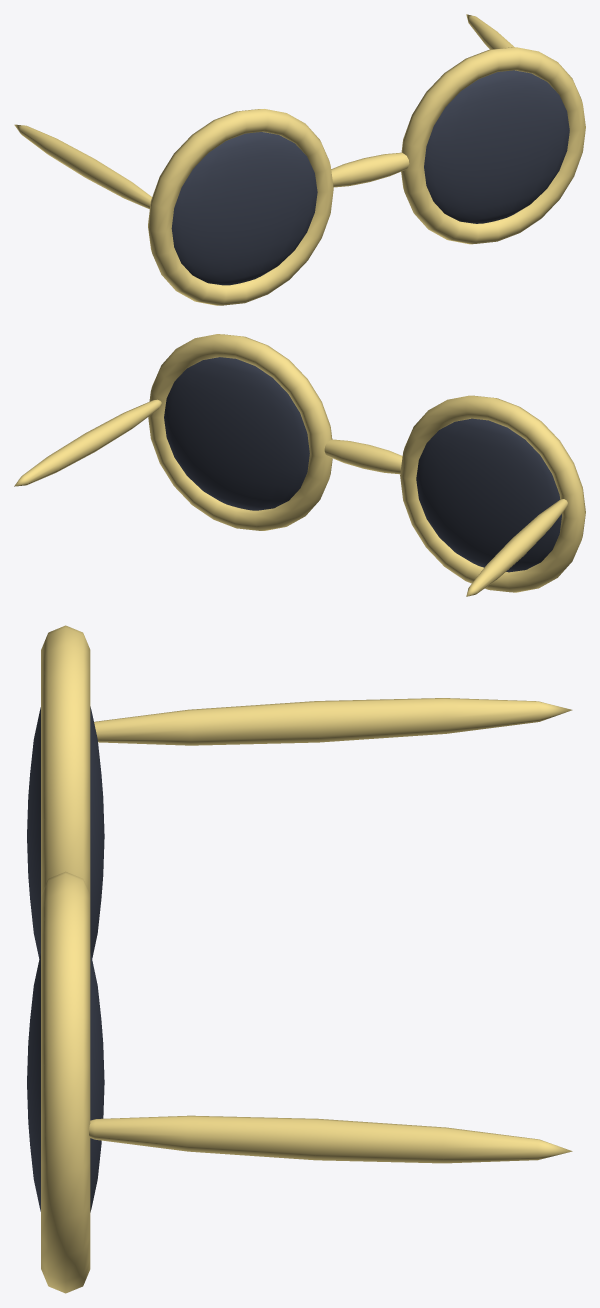
File: sunglasses.glb
3 views of the same model, one above another, from view 1: azimuth 30°, elevation 25°; view 2: azimuth 150°, elevation 25°; view 3: azimuth 270°, elevation 25° (orthographic). The views are drawn at different scales.
Parts seen in each view (by area): view 1: Lens_1, Lens_-1, Rim_-1, Rim_1, Temple_-1, Bridge, Temple_1; view 2: Lens_1, Lens_-1, Rim_1, Rim_-1, Temple_1, Temple_-1, Bridge; view 3: Rim_1, Temple_1, Temple_-1, Rim_-1, Lens_-1, Lens_1.
Boxes of the visible parts, x1,y1,x2,y2 form: Lens_1: (424, 70, 569, 223); Lens_-1: (171, 132, 317, 285); Rim_-1: (148, 109, 333, 305); Rim_1: (401, 47, 585, 244); Temple_-1: (14, 124, 151, 209); Bridge: (331, 152, 409, 187); Temple_1: (466, 14, 514, 49); Lens_1: (164, 357, 309, 510); Lens_-1: (416, 418, 561, 572); Rim_1: (148, 334, 332, 530); Rim_-1: (400, 395, 585, 592); Temple_1: (14, 399, 161, 486); Temple_-1: (466, 499, 567, 596); Bridge: (324, 439, 402, 474); Rim_1: (41, 871, 90, 1293); Temple_1: (89, 1115, 572, 1163); Temple_-1: (94, 698, 572, 745); Rim_-1: (41, 625, 90, 895); Lens_-1: (27, 706, 104, 958); Lens_1: (27, 953, 104, 1212).
Bounding box in the file's own units: 0.5987 × 0.24 × 0.3094.
